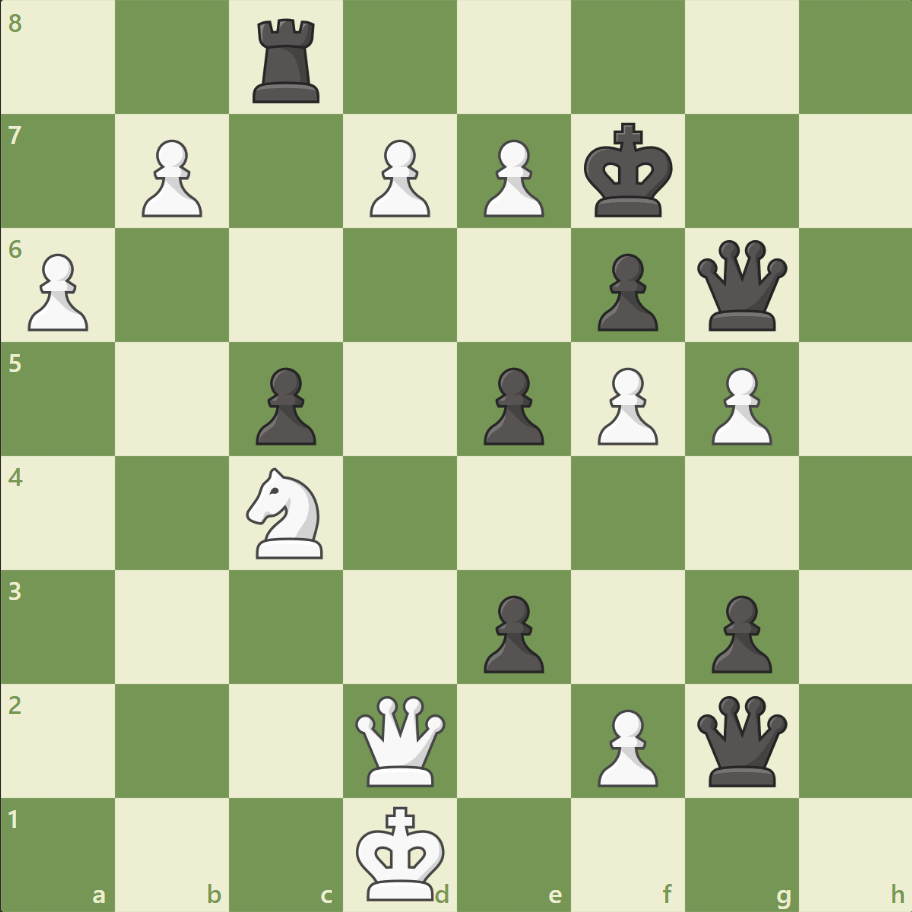K: (351, 798, 451, 906)
N: (238, 461, 335, 564)
P: (133, 132, 208, 223), (474, 132, 549, 223), (20, 246, 95, 337), (701, 359, 776, 450), (361, 132, 435, 223), (588, 359, 662, 450), (588, 700, 662, 791)
Q: (351, 690, 450, 789)
k: (579, 117, 679, 225)
p: (247, 359, 322, 450), (474, 359, 549, 450), (474, 586, 549, 677), (701, 586, 776, 677), (588, 246, 662, 337)
q: (691, 236, 790, 335), (691, 690, 790, 789)
r: (246, 12, 329, 109)
